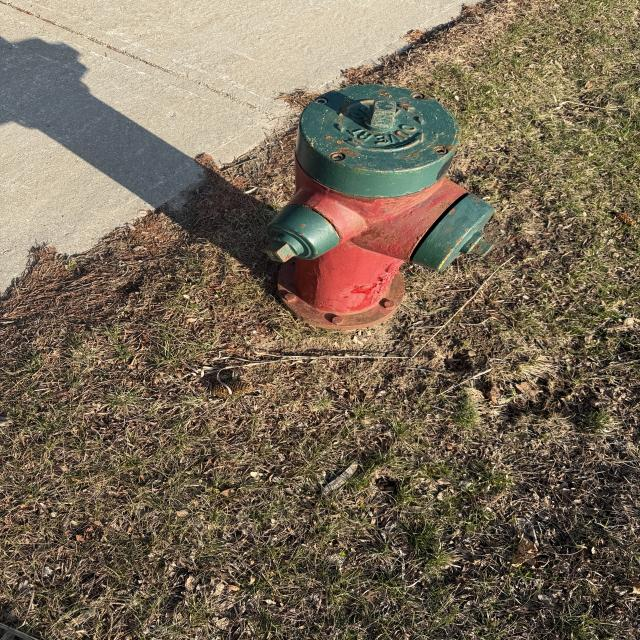Fire hydrant: (260, 84, 497, 330)
